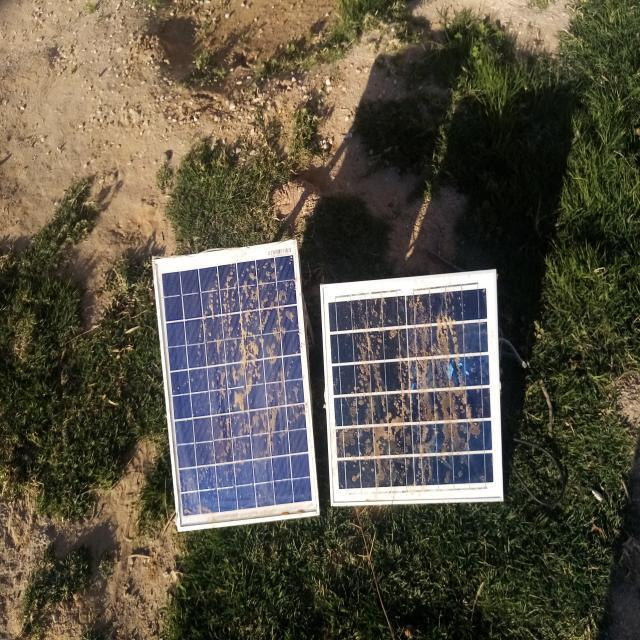faulty: (152, 240, 319, 532), (322, 269, 504, 504)
